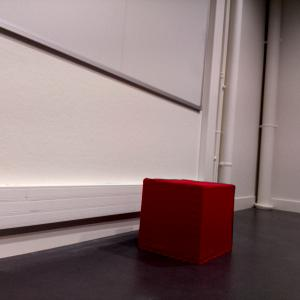medium: (136, 176, 237, 269)
